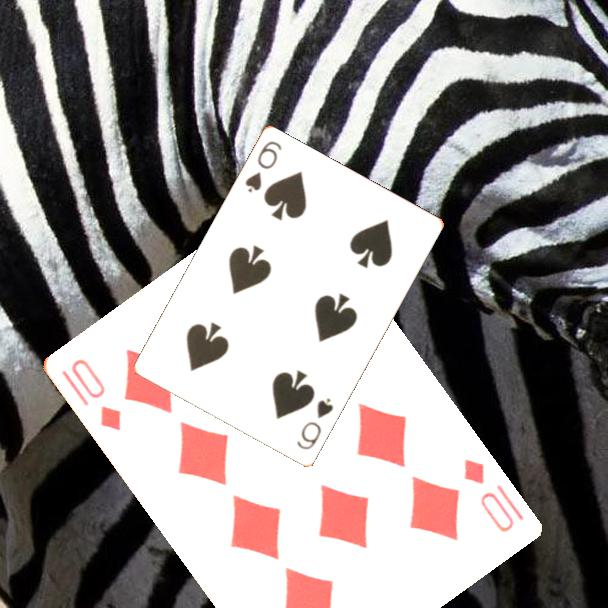d10: (459, 455, 527, 536), (67, 355, 124, 434)
s06: (293, 395, 336, 453), (242, 138, 285, 196)
